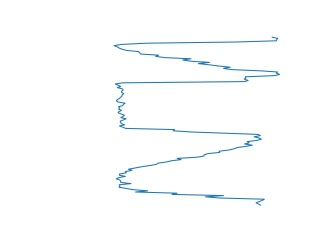distributaryChannelFill: (110, 72, 264, 145)
mouthBar: (112, 34, 284, 76)
underwaterDistributaryChannel: (113, 136, 265, 209)
